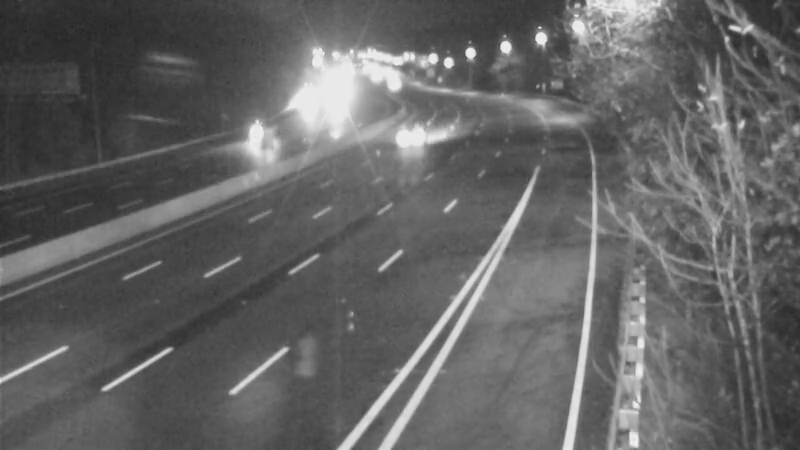vehicle: (390, 114, 440, 164), (240, 113, 290, 163)
